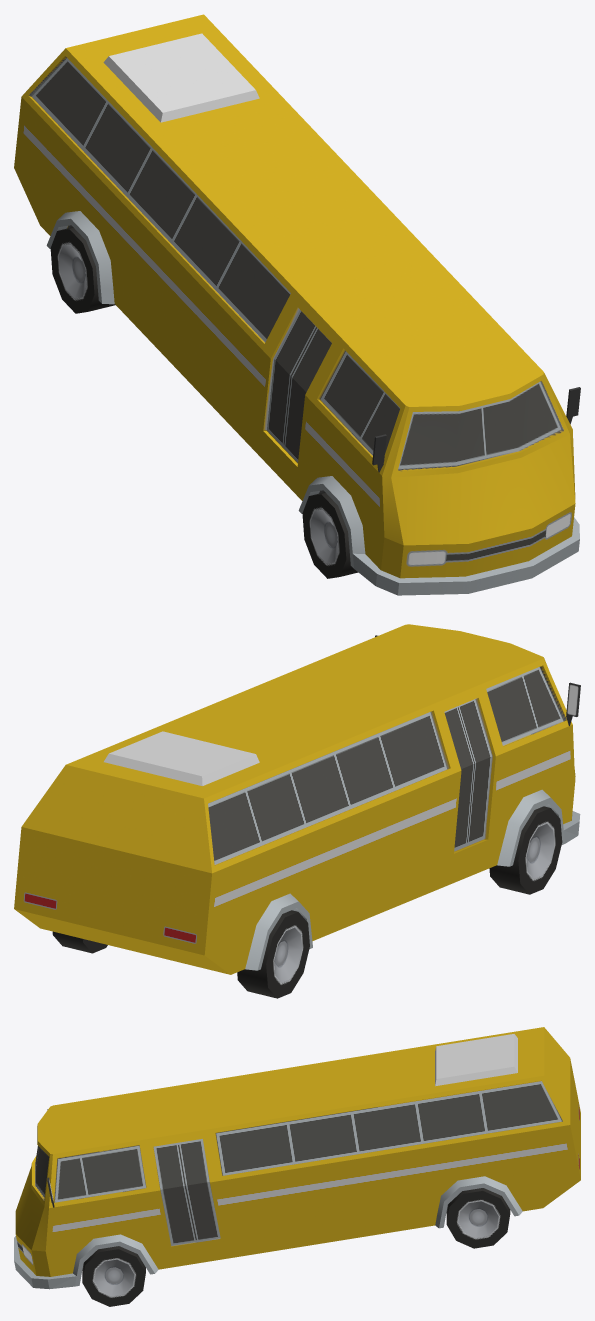
Rendered from bus12.obj.
The picture shows the model from 3 angles, top to bottom: view 1: azimuth 30°, elevation 25°; view 2: azimuth 150°, elevation 25°; view 3: azimuth 270°, elevation 25°; orthographic projection. The views are drawn at different scales.
Size of the model in its own units: 6.2 by 8.32 by 19.54.
